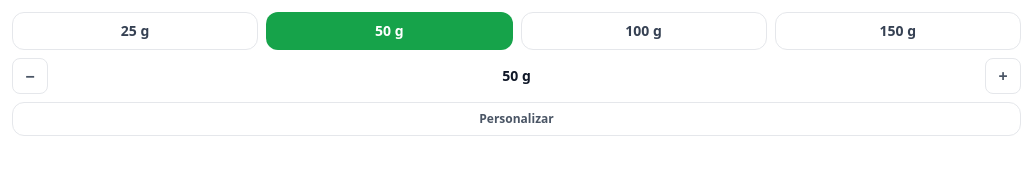
Test: CantidadSelector › el stepper suma/resta 10 gramos desde un valor intermedio
This screenshot has width=1036, height=172.
Click the button named "Sumar 10 gramos": (1003, 76) [985,58,1021,94]
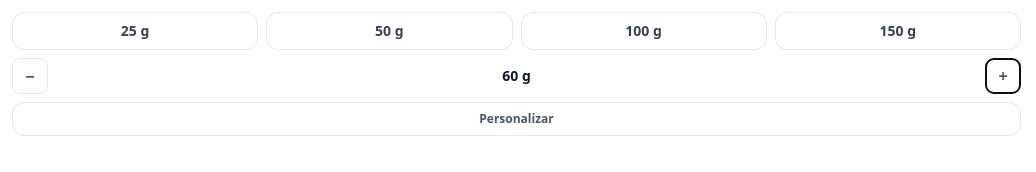
Expected: the element showing "60" is shown, [12,58,1021,94]
Click the button named "Restar 10 gramos": (30, 76) [12,58,48,94]
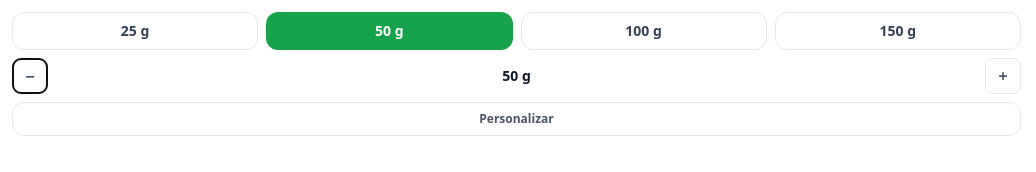
Click the button named "Restar 10 gramos": (30, 76) [12,58,48,94]
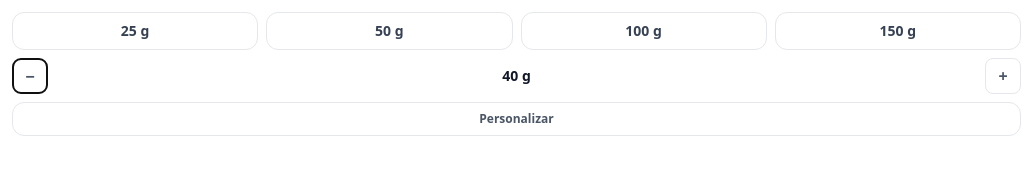
Expected: the element showing "40" is shown, [12,58,1021,94]
